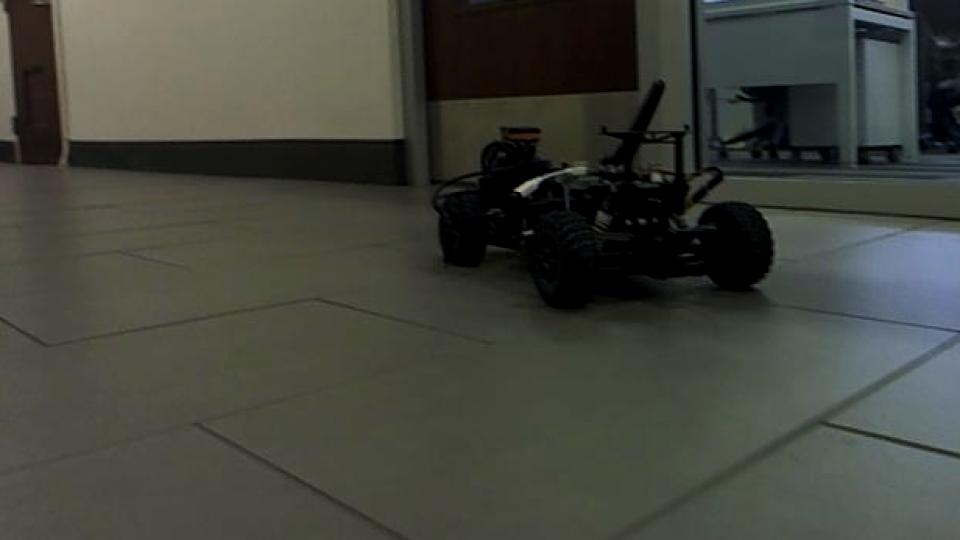car: (430, 76, 779, 310)
